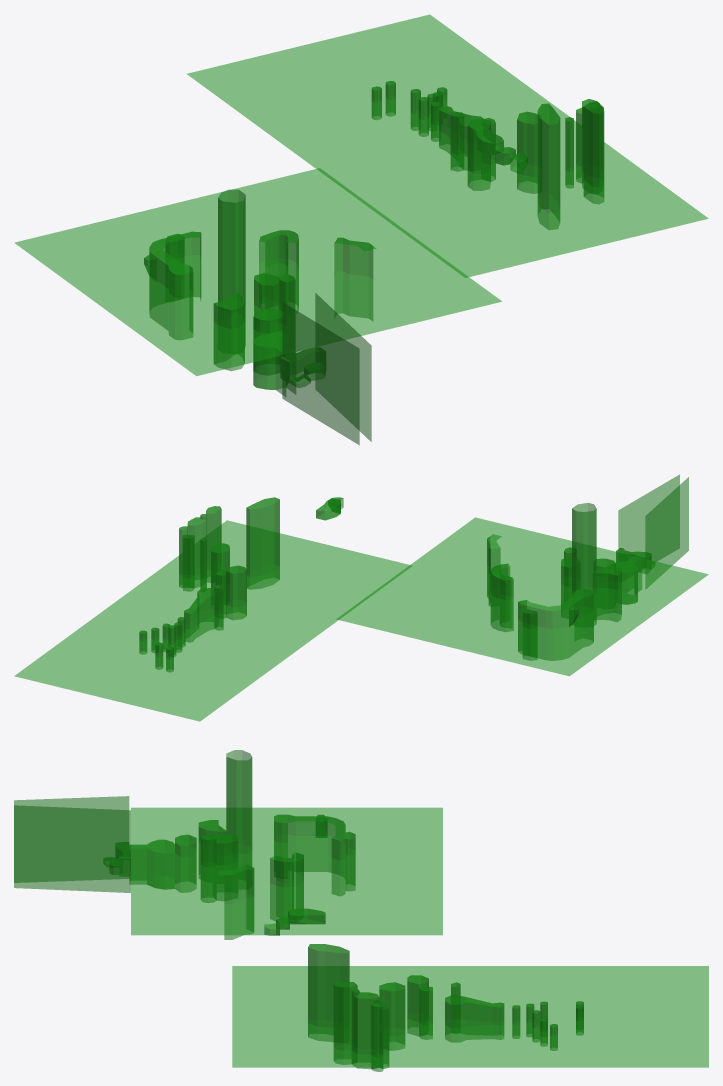
Rendered from hit_B.obj.
The picture shows the model from 3 angles, top to bottom: view 1: azimuth 30°, elevation 25°; view 2: azimuth 150°, elevation 25°; view 3: azimuth 270°, elevation 25°; orthographic projection. The views are drawn at different scales.
Bounding box in the file's own units: 284 × 72 × 350.
